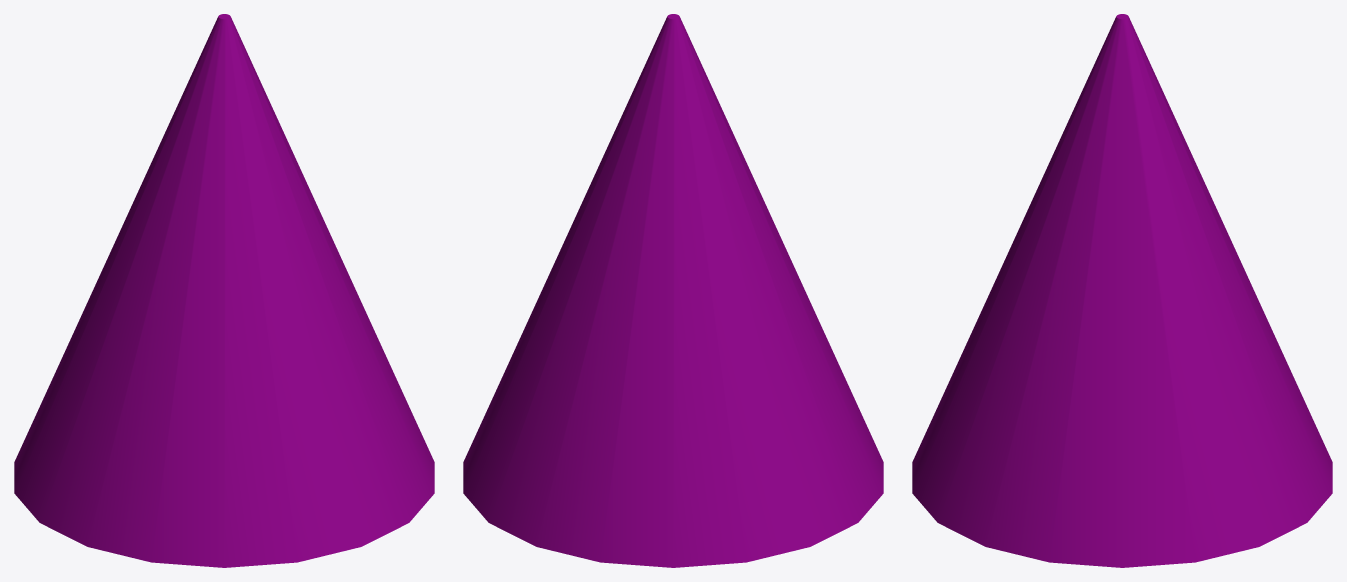
The model's file is Hat2.FBX.
The picture shows the model from 3 angles, left to right: view 1: azimuth 30°, elevation 25°; view 2: azimuth 150°, elevation 25°; view 3: azimuth 270°, elevation 25°; orthographic projection.
Visible parts, largest first — view 1: PRP_Hat_1; view 2: PRP_Hat_1; view 3: PRP_Hat_1.
Boxes of the visible parts, left/top/right/bottom form: PRP_Hat_1: left=14, top=14, right=434, bottom=567; PRP_Hat_1: left=463, top=14, right=883, bottom=567; PRP_Hat_1: left=912, top=14, right=1332, bottom=567.
Size of the model in its own units: 32.12 by 38.3 by 31.63.
